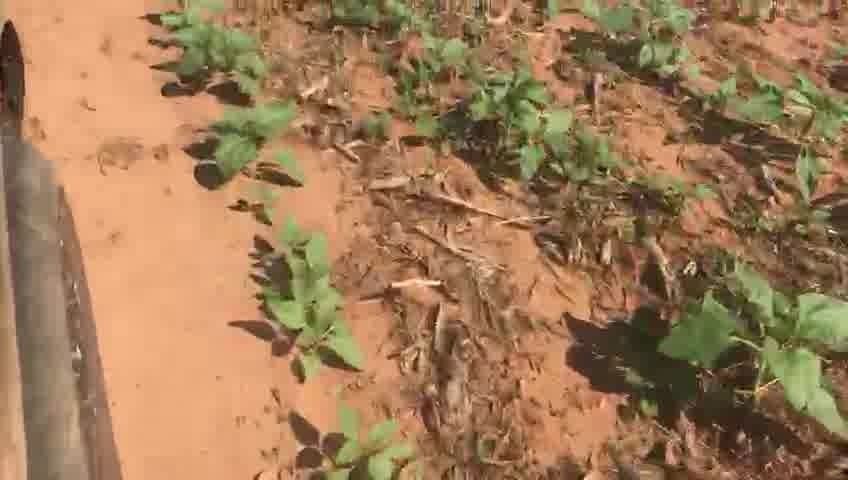sunflower: (657, 263, 839, 437), (252, 232, 366, 379), (191, 102, 306, 209), (151, 8, 273, 108), (465, 74, 573, 174), (281, 404, 416, 477), (388, 24, 465, 96)
